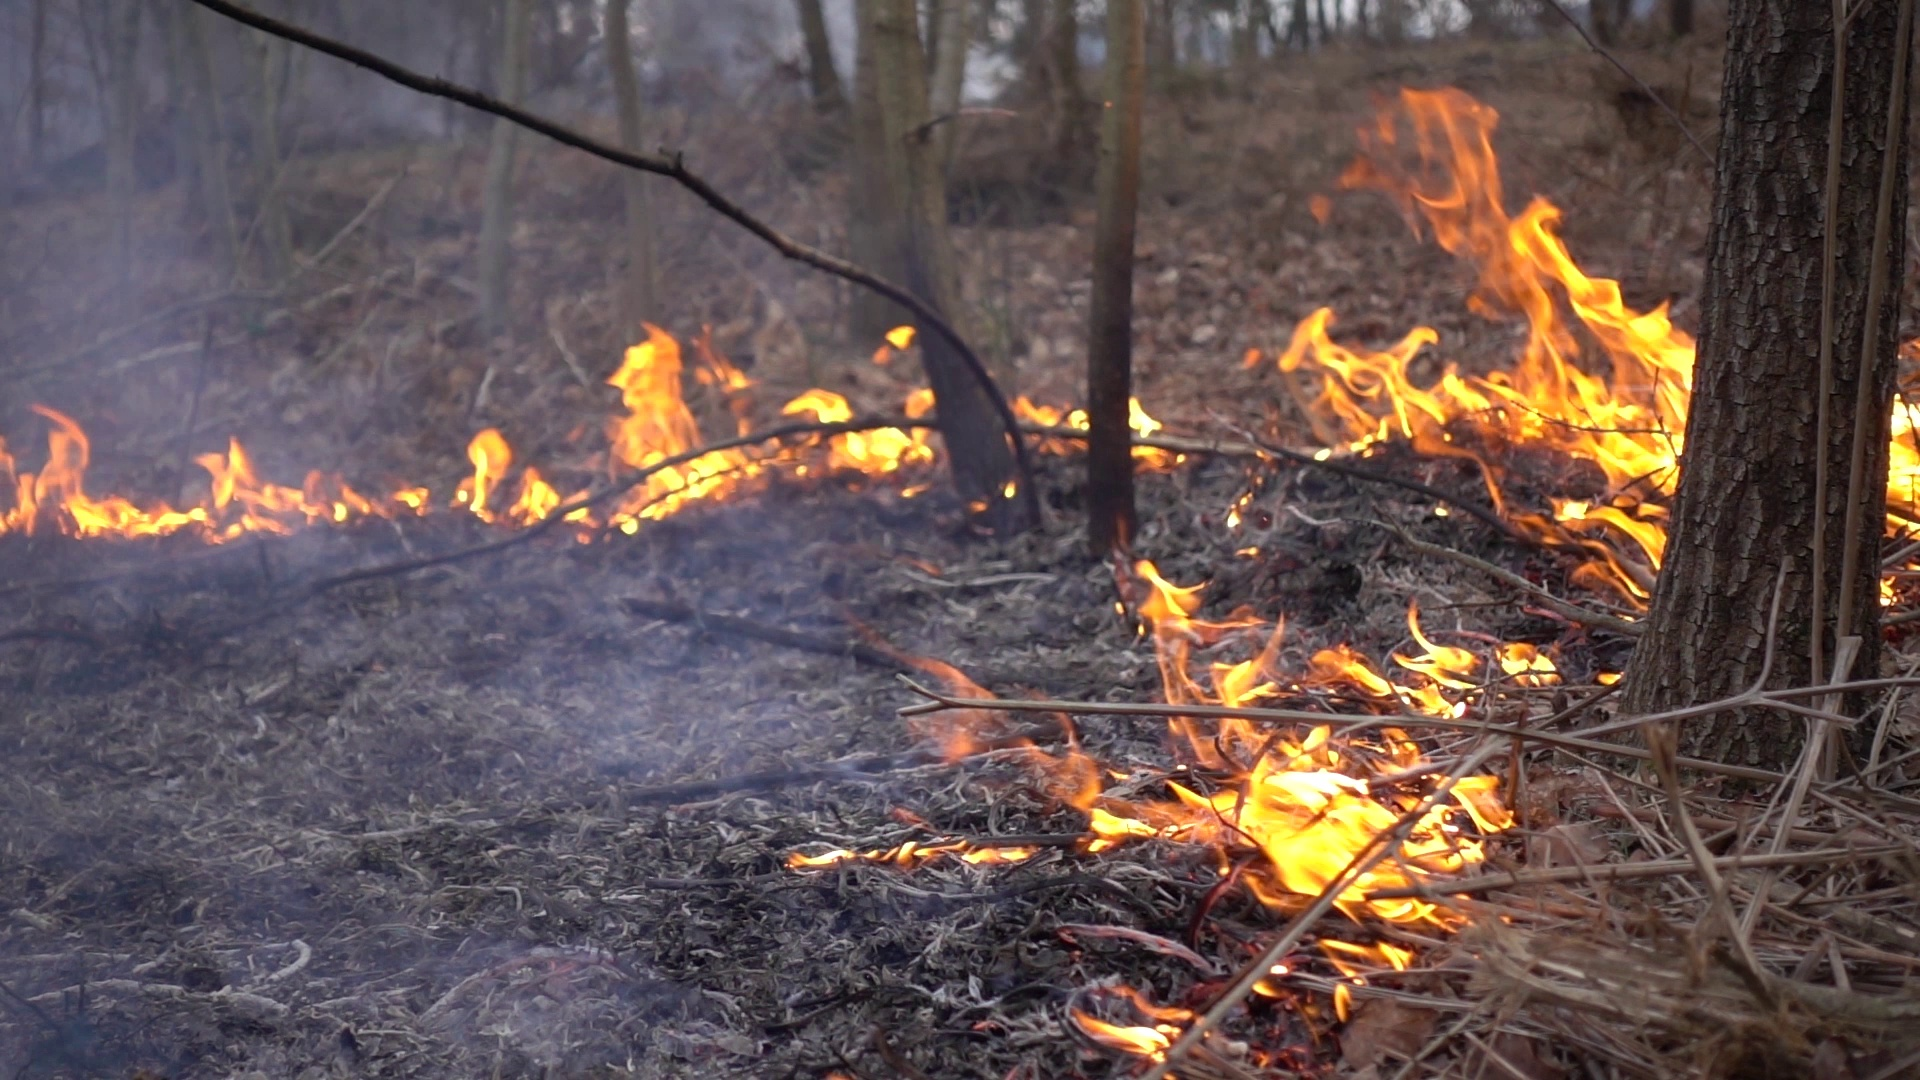fire: (1278, 84, 1696, 553), (1079, 559, 1524, 948), (607, 335, 753, 521), (1, 433, 175, 537), (203, 436, 361, 524), (793, 388, 938, 480), (462, 429, 550, 524), (1892, 406, 1917, 505)
